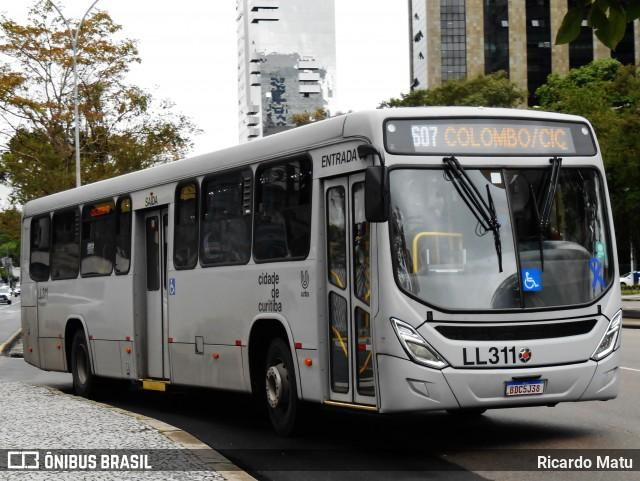COLOMBO CIC: (441, 123, 571, 153)
